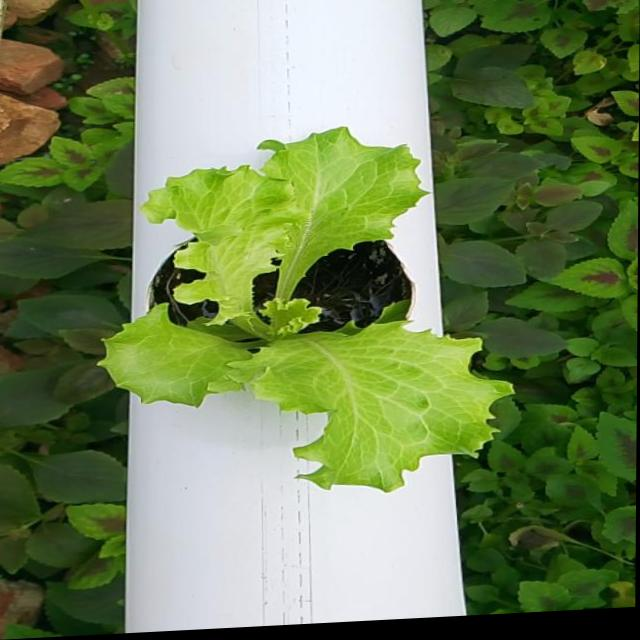Baby: (82, 134, 491, 493)
